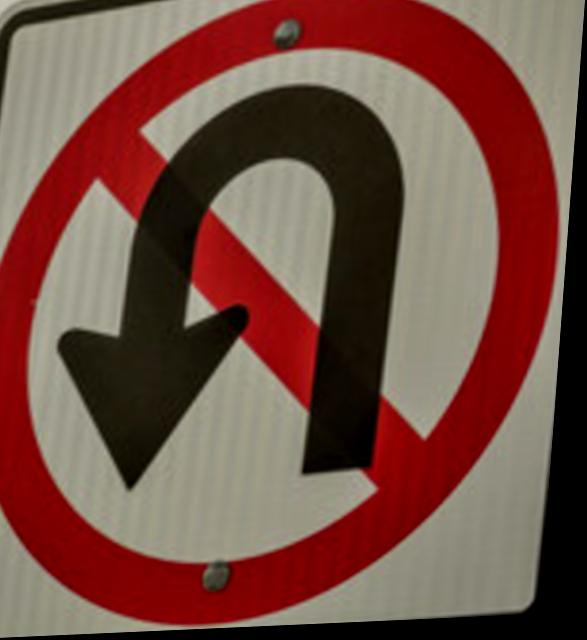not_u_turn_left: (0, 0, 563, 630)
